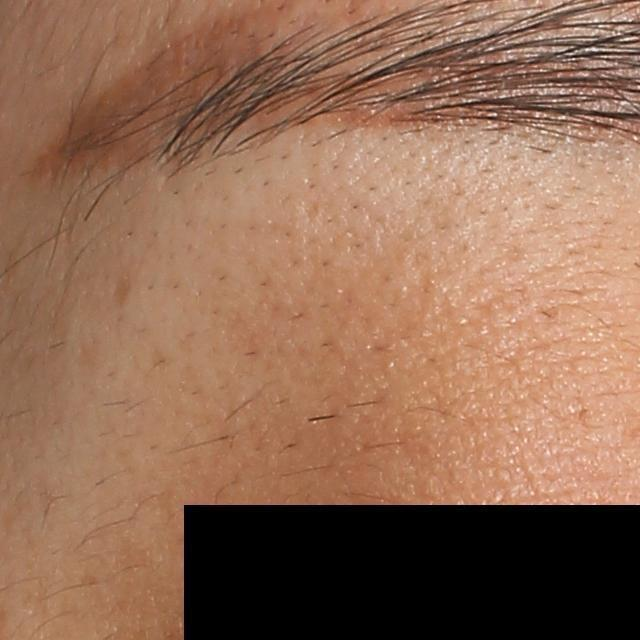melasma: (114, 274, 137, 317)
